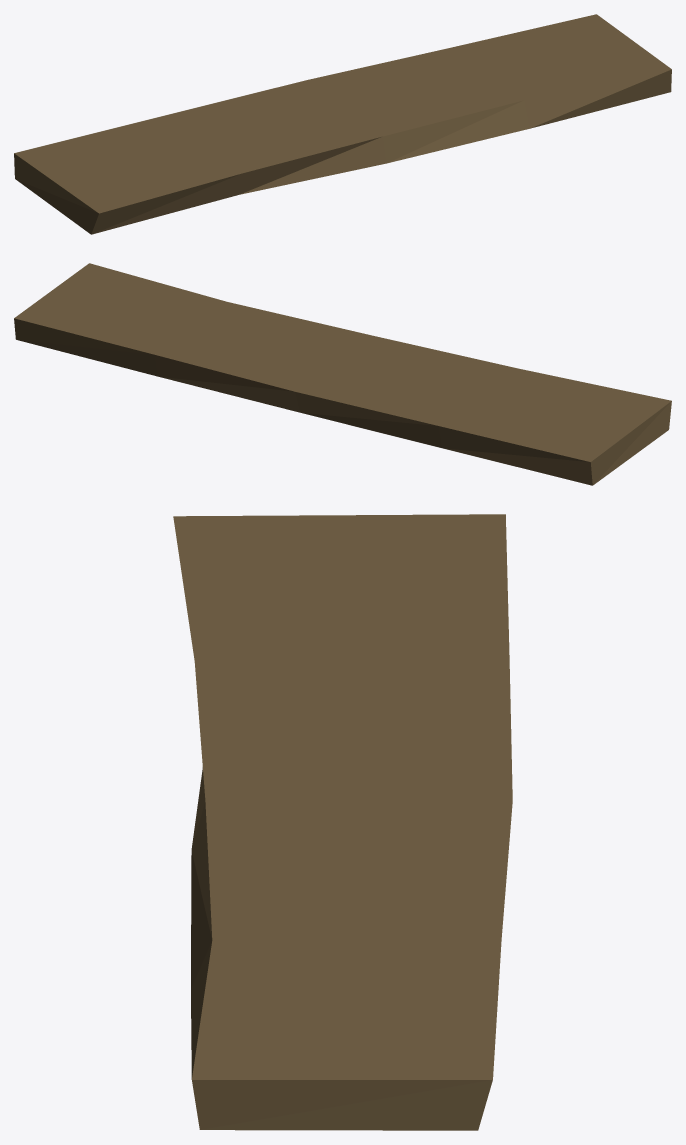
Rendered from Brett 2.fbx.
The picture shows the model from 3 angles, top to bottom: view 1: azimuth 30°, elevation 25°; view 2: azimuth 150°, elevation 25°; view 3: azimuth 270°, elevation 25°; orthographic projection. The views are drawn at different scales.
Parts seen in each view (by area): view 1: Würfel7_1; view 2: Würfel7_1; view 3: Würfel7_1.
Part boxes in pixels (x1,y1,x2,y2): Würfel7_1: (14,14,671,234); Würfel7_1: (14,263,671,485); Würfel7_1: (173,514,512,1130).
Bounding box in the file's own units: 149 × 6 × 37.62.
